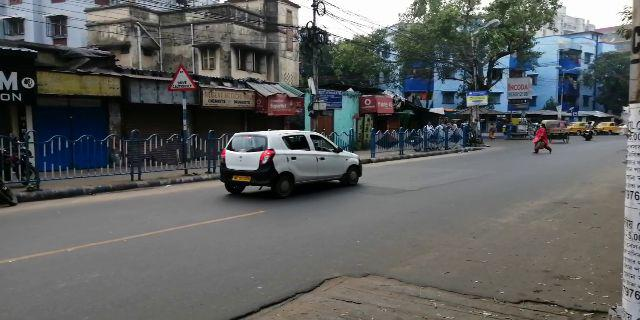Car: (216, 132, 366, 198)
